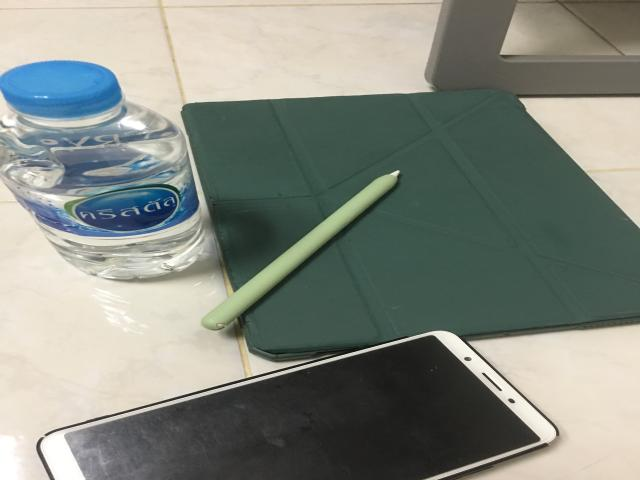Mobile phone: (38, 331, 558, 480)
bottle: (0, 61, 203, 278)
